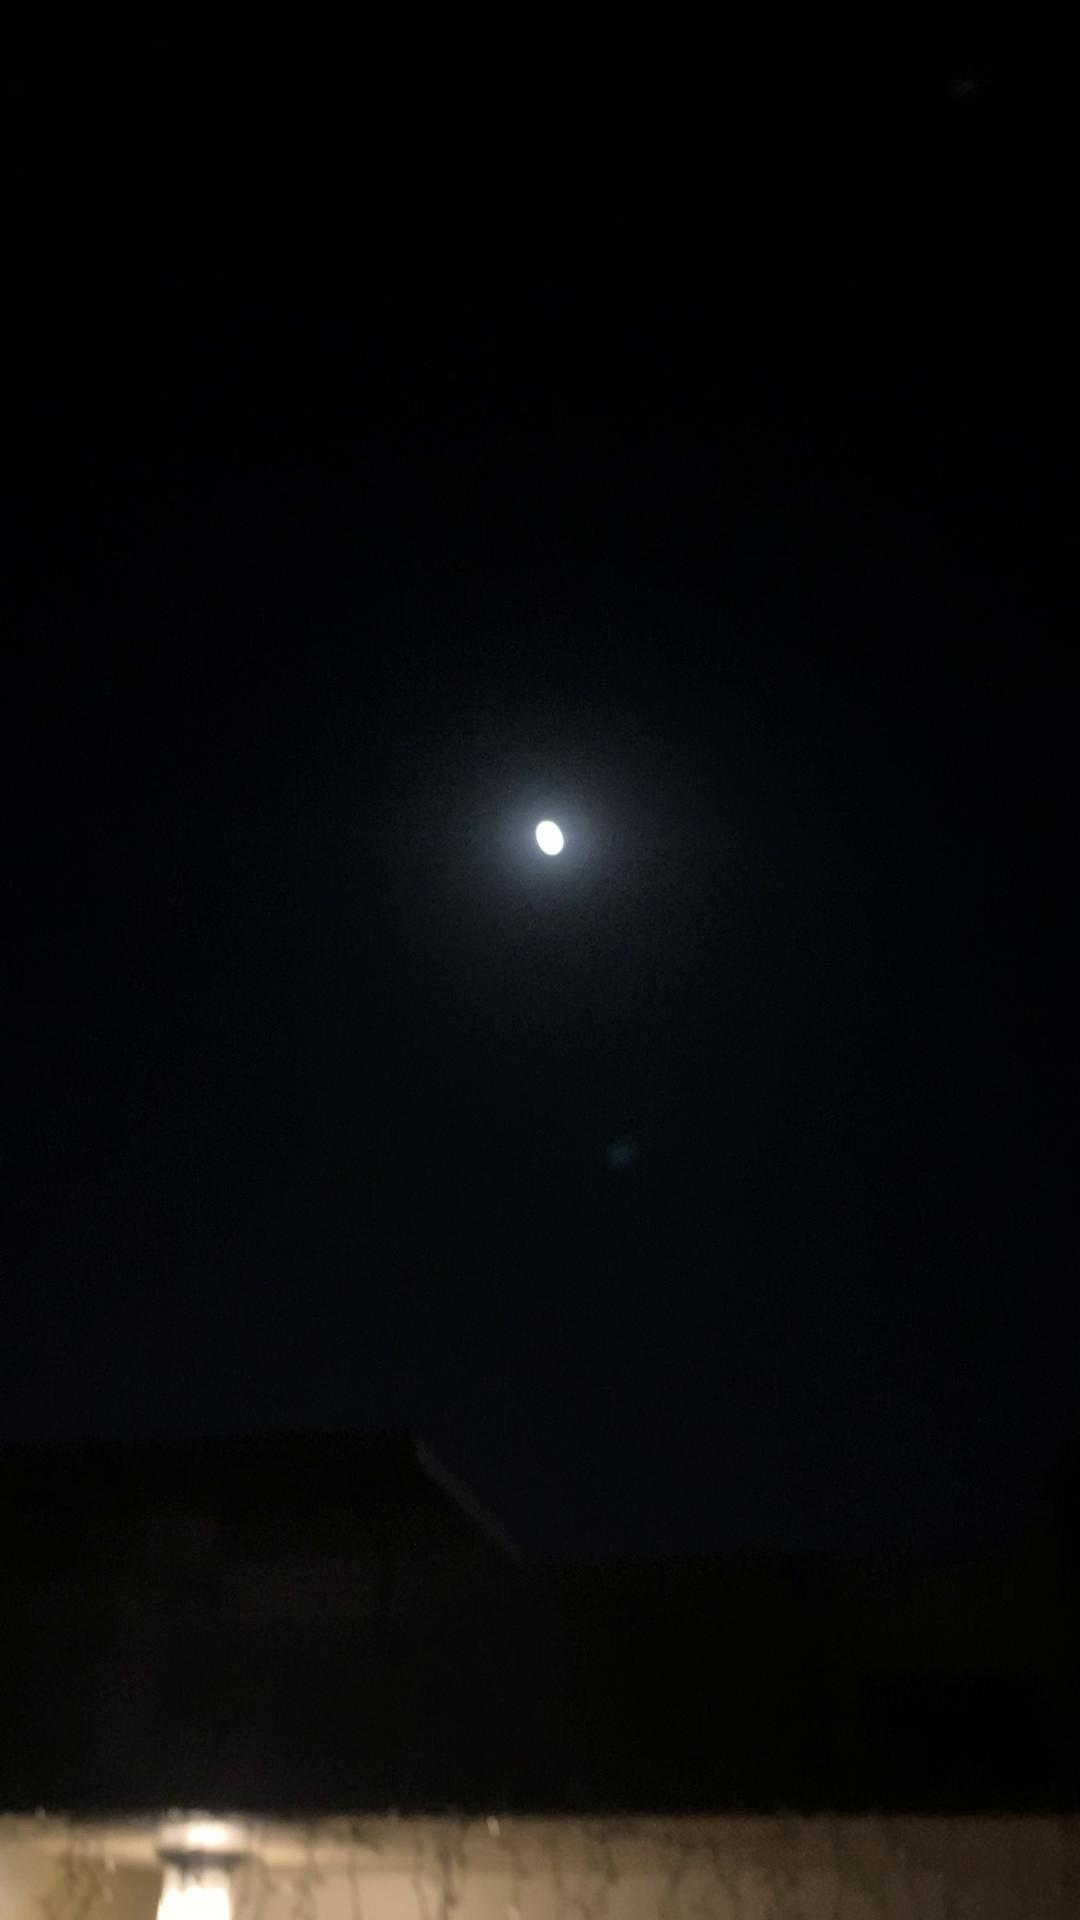moon: (505, 775, 592, 872)
